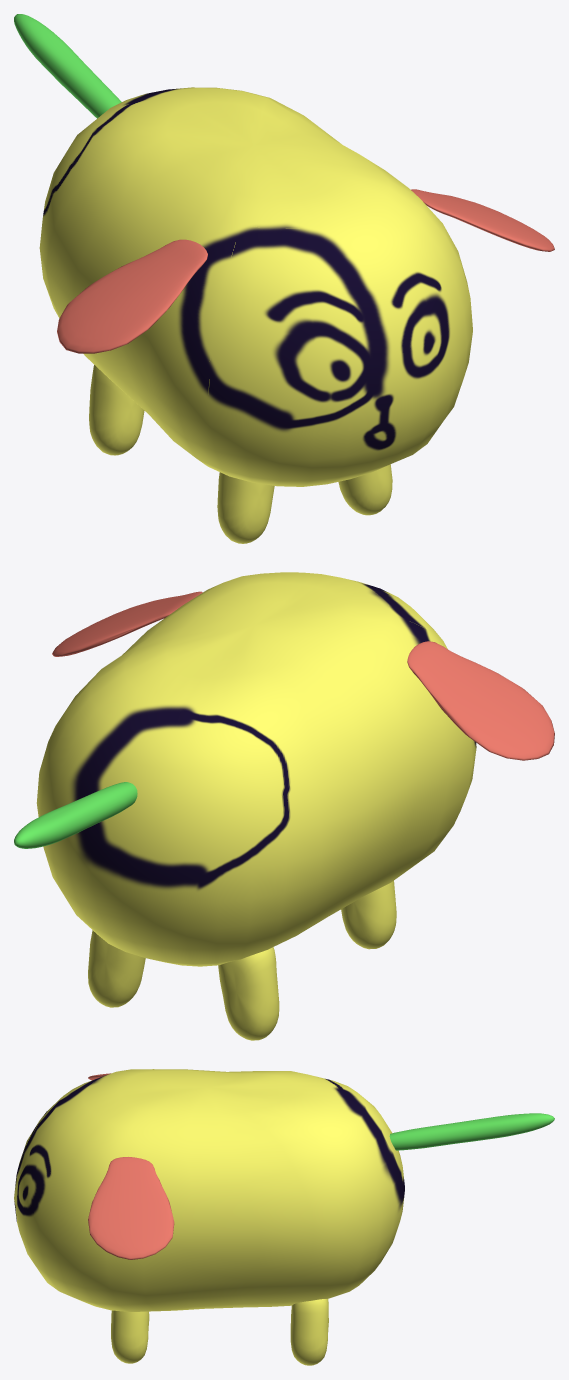
The model's file is mantequilla.fbx.
The picture shows the model from 3 angles, top to bottom: view 1: azimuth 30°, elevation 25°; view 2: azimuth 150°, elevation 25°; view 3: azimuth 270°, elevation 25°; orthographic projection. The views are drawn at different scales.
Visible parts, largest first — view 1: Sphere; view 2: Sphere; view 3: Sphere.
Part boxes in pixels (x1,y1,x2,y2): Sphere: [14, 14, 554, 543]; Sphere: [14, 572, 554, 1040]; Sphere: [14, 1069, 554, 1365].
Size of the model in its own units: 353 by 241 by 466.
Materials: 4 (2 with a texture image).
